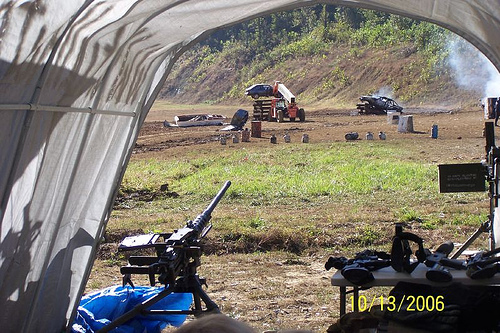rifle: (103, 174, 237, 322)
